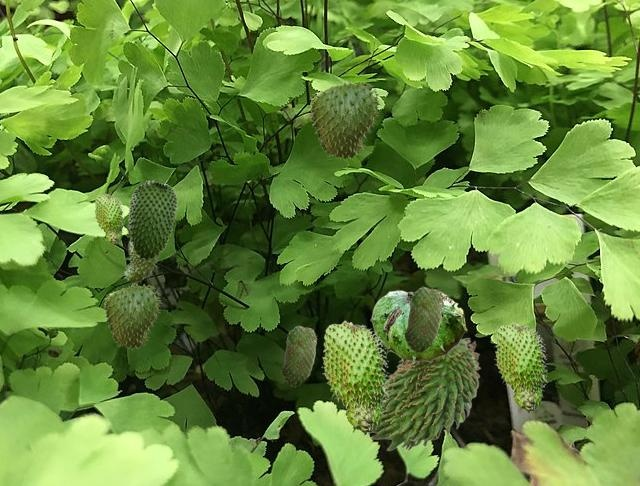guyabano: (368, 337, 480, 450), (321, 320, 389, 434), (370, 290, 466, 365), (310, 80, 380, 160), (494, 322, 547, 412), (128, 180, 176, 260), (104, 283, 161, 349), (404, 286, 442, 352), (281, 325, 316, 386), (123, 227, 161, 283), (94, 193, 124, 244)
